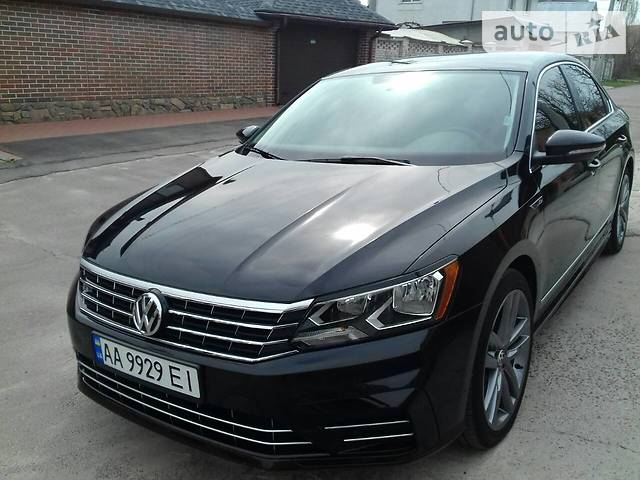car: (66, 50, 636, 461)
plate: (91, 334, 201, 397)
